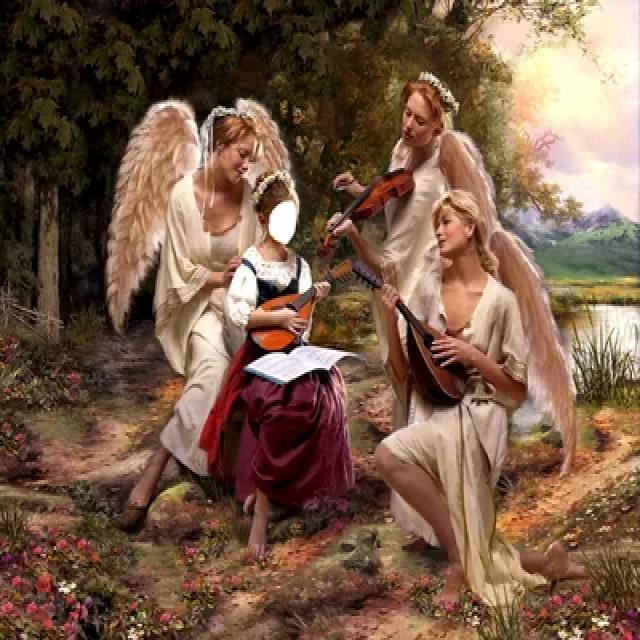angel: (350, 186, 571, 594)
